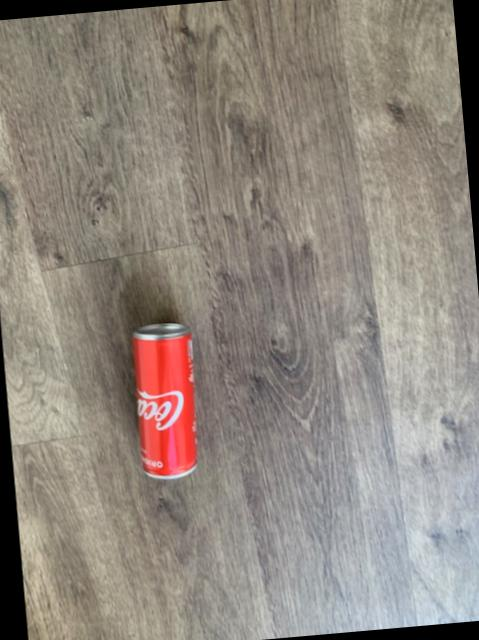metal: (130, 322, 194, 477)
